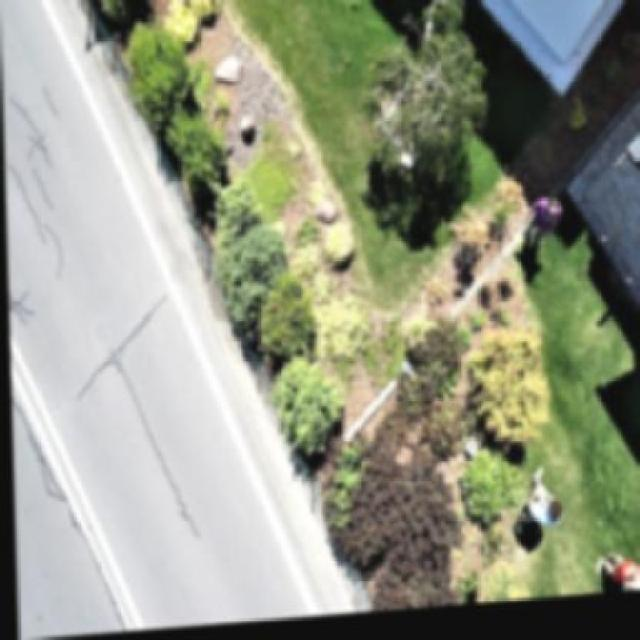Person: (510, 469, 573, 540), (511, 198, 571, 264), (588, 556, 638, 604)
